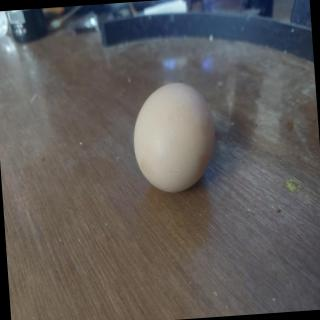Telur: (129, 79, 228, 203)
